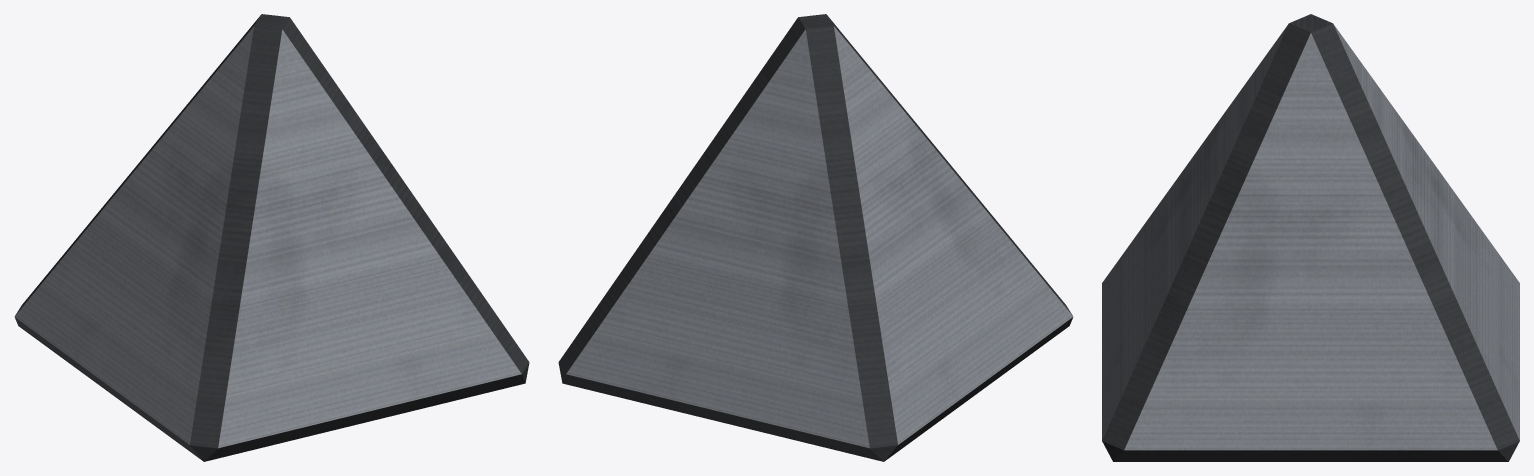
The picture shows the model from 3 angles, left to right: view 1: azimuth 30°, elevation 25°; view 2: azimuth 150°, elevation 25°; view 3: azimuth 270°, elevation 25°; orthographic projection. The views are drawn at different scales.
Visible parts, largest first — view 1: R4B_Pyramid_LOD1; view 2: R4B_Pyramid_LOD1; view 3: R4B_Pyramid_LOD1.
Boxes of the visible parts, box(x1,y1,x2,y2) form: R4B_Pyramid_LOD1: box(14, 14, 529, 461); R4B_Pyramid_LOD1: box(558, 14, 1073, 461); R4B_Pyramid_LOD1: box(1102, 14, 1519, 461).
Bounding box in the file's own units: 0.4985 × 0.4674 × 0.4985.
2 materials, 2 textured.
